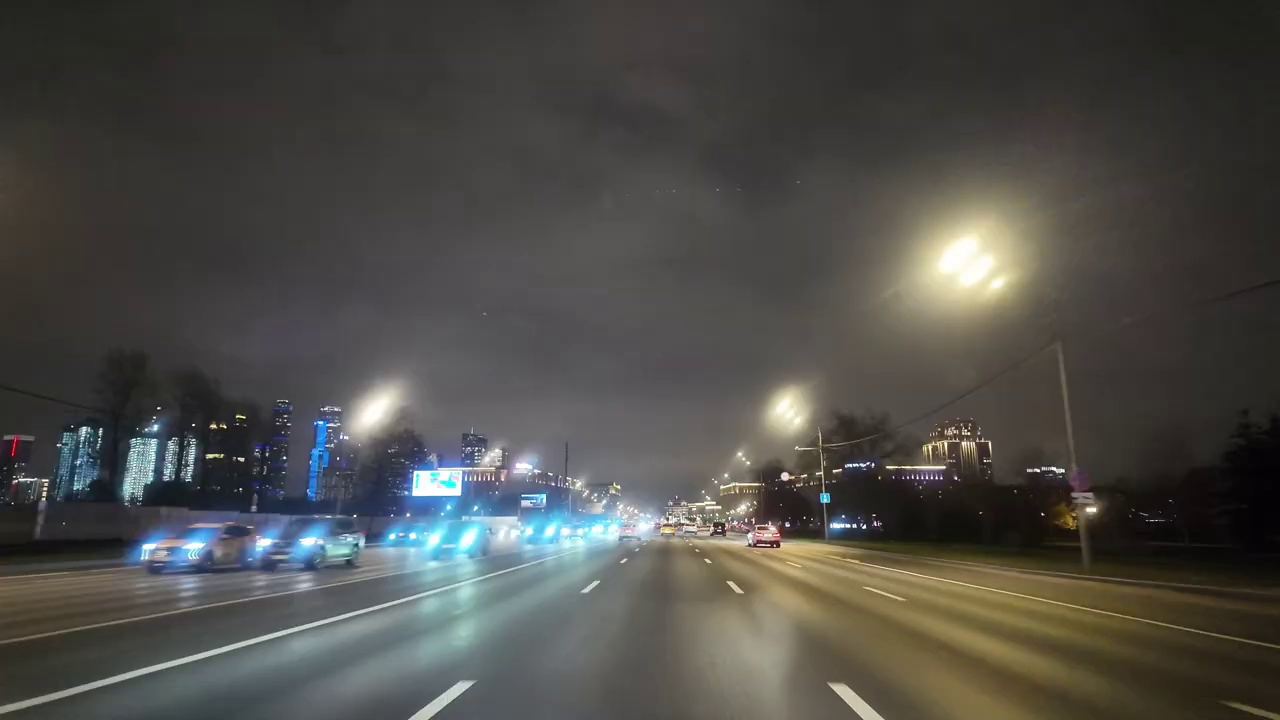acesa: (930, 227, 1005, 299), (350, 385, 401, 440), (766, 389, 810, 439)
